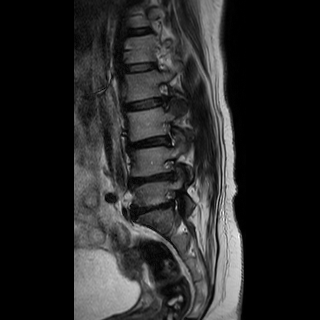RFS2: (155, 118, 182, 151)
RFS3: (156, 153, 183, 186)
